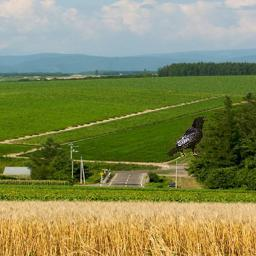Crow: (166, 116, 208, 156)
